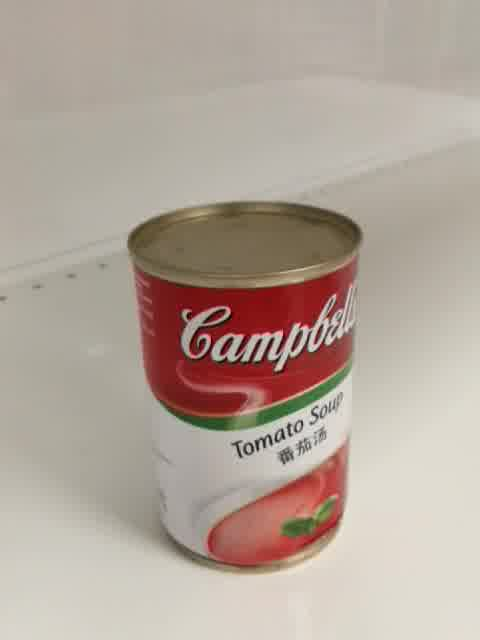tomatosoup: (125, 195, 368, 579)
